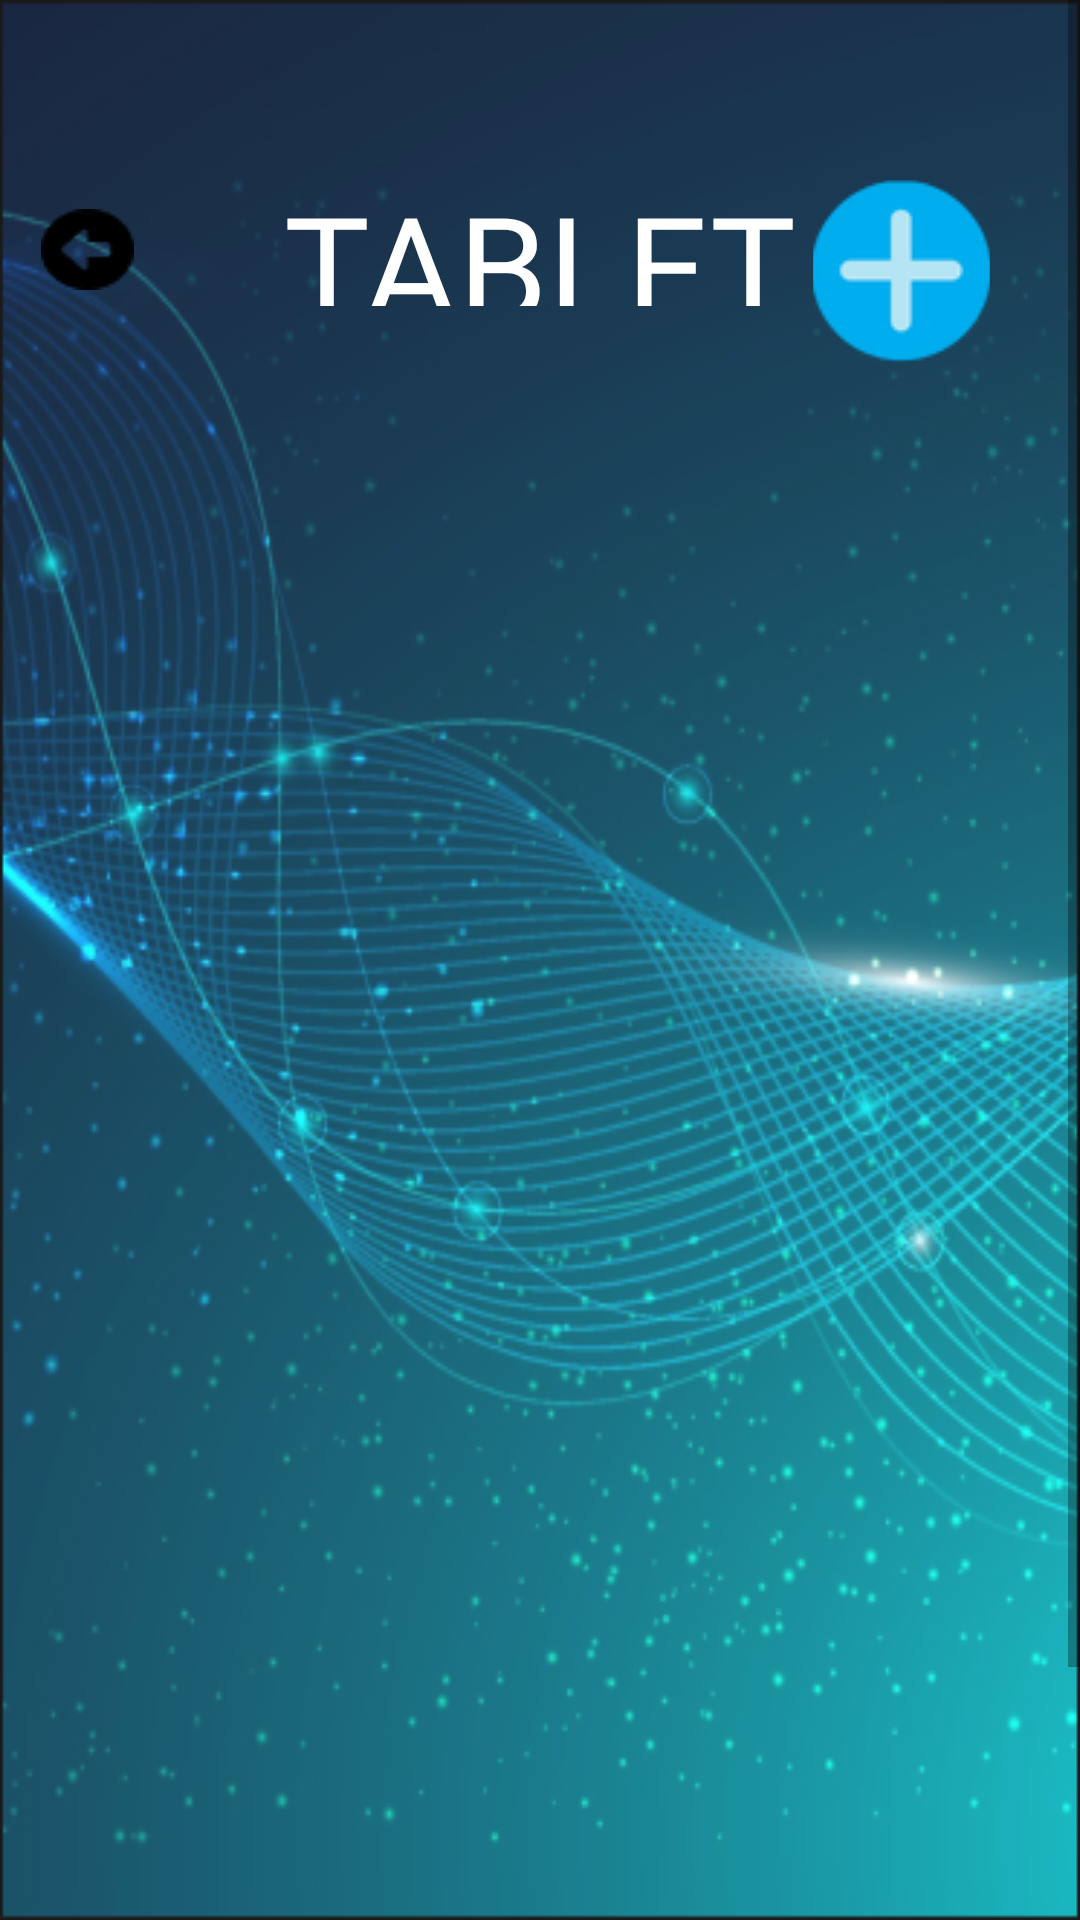

Where to tap for icons on this 1080 × 1920 app screen, as [x,y]:
add equipoti: [901,271]
back usuario: [87,257]
